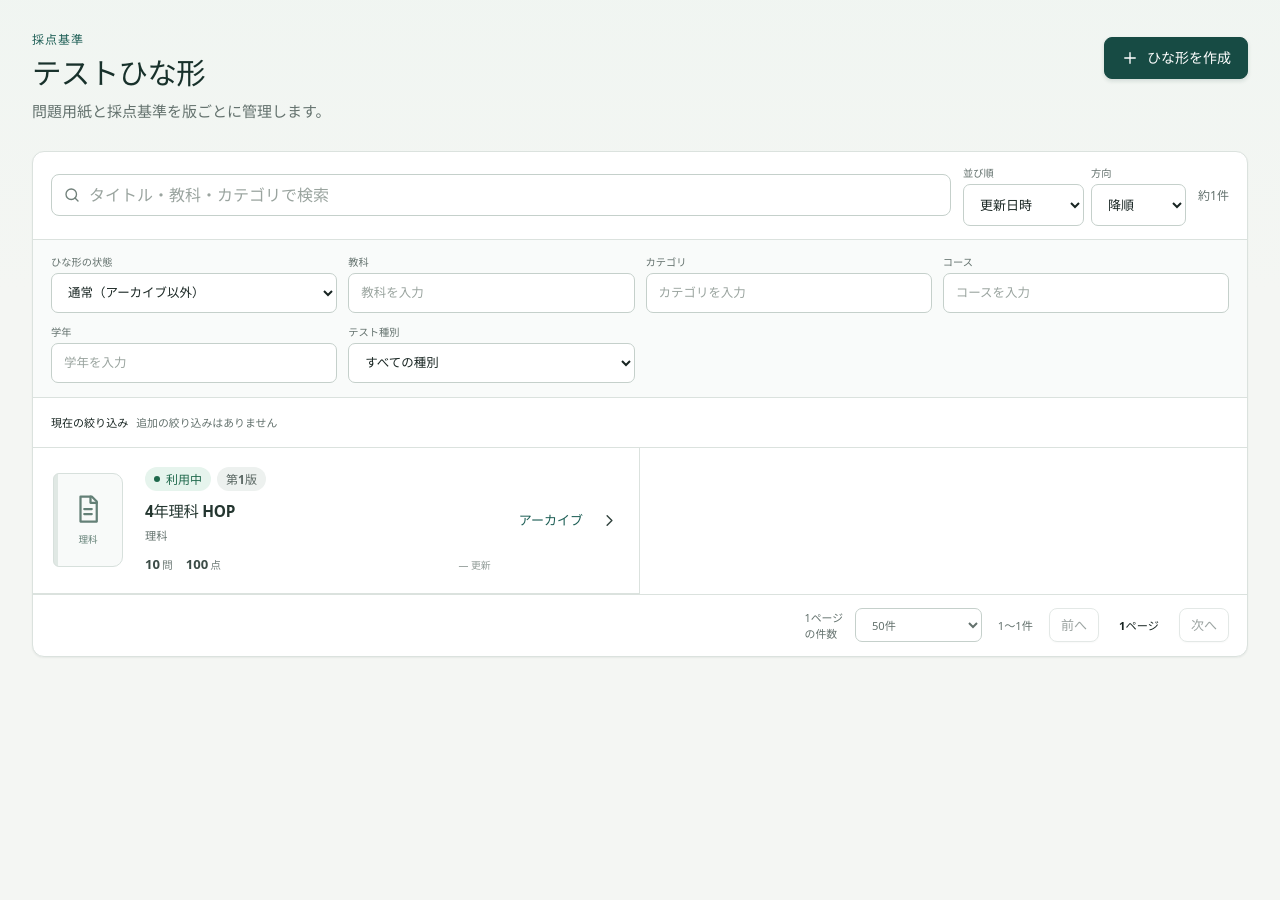
Test case: TemplatesPage lifecycle actions › keeps the confirmation open when archiving fails
Click the button "アーカイブ": [551, 520] box [507, 503, 595, 537]
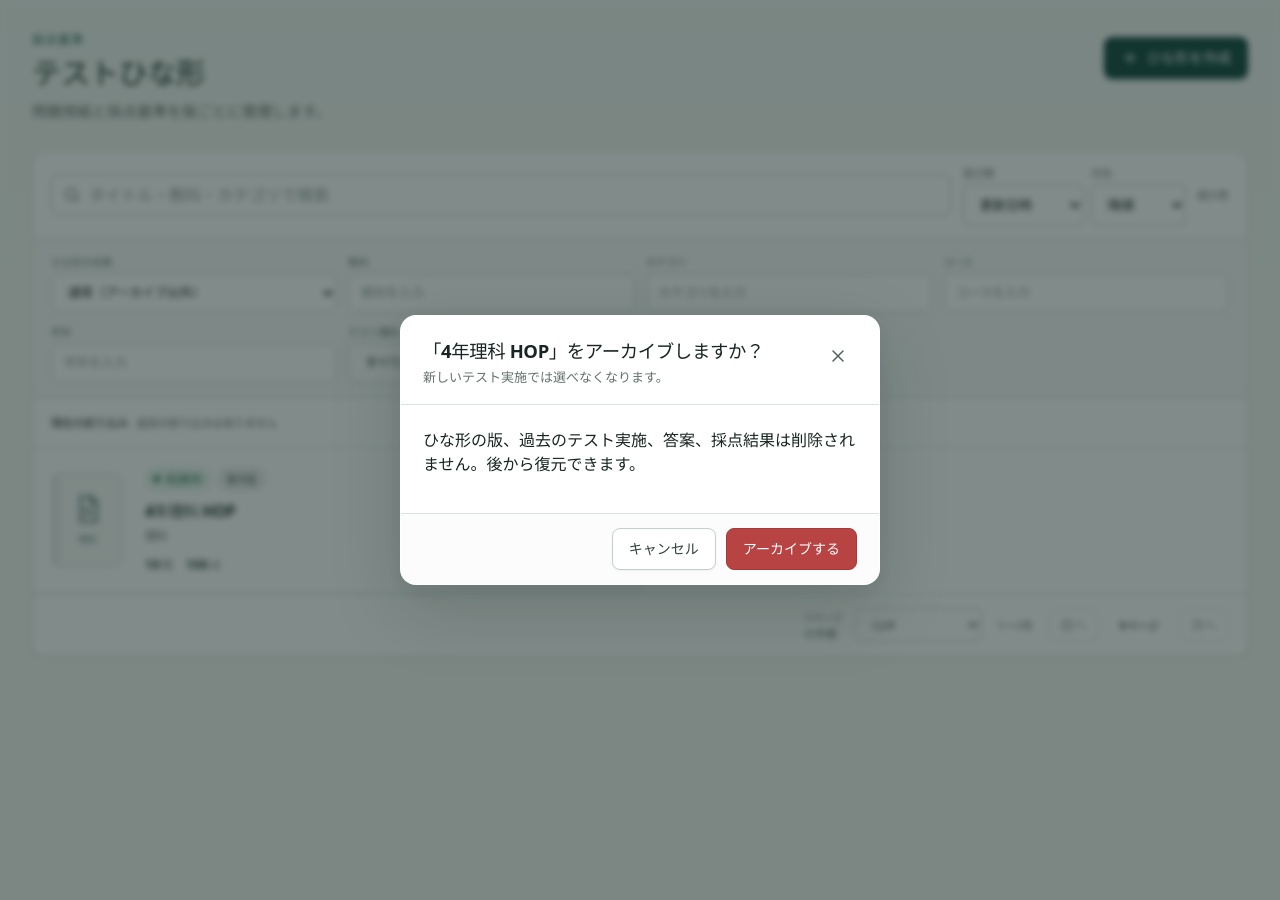
Click the button "アーカイブする": [791, 549] box [726, 528, 857, 570]
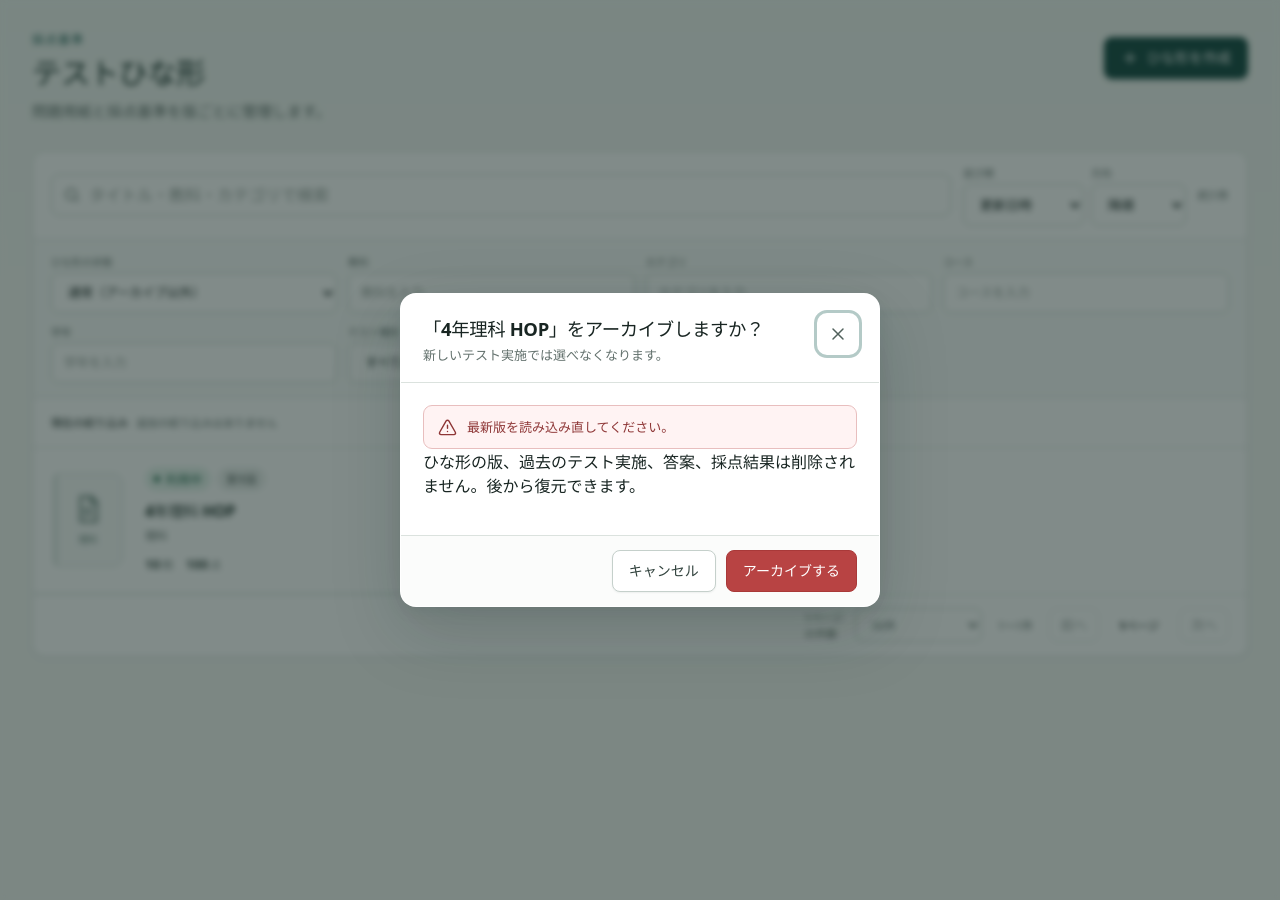
Check: the heading "「4年理科 HOP」をアーカイブしますか？" is shown, box [423, 315, 764, 341]
Check: the text "最新版を読み込み直してください。" is shown, box [467, 418, 674, 436]
